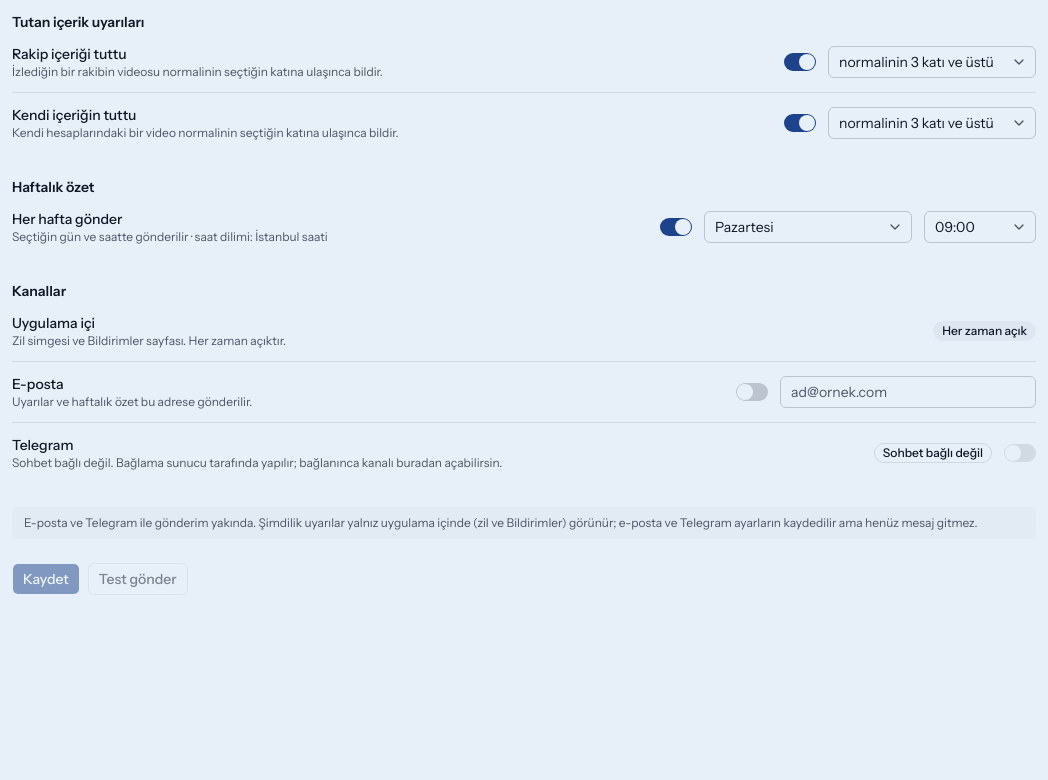
AlertSettingsForm: görünüm › kapalı kuralın kademe seçici devre dışıdır
The image size is (1048, 780).
expect the dropdown named "Rakip içeriği tuttu: en az kaç katı" is enabled: met, box [828, 46, 1036, 78]
Click the switch named "Rakip içeriği tuttu": [800, 62] box [784, 53, 816, 71]
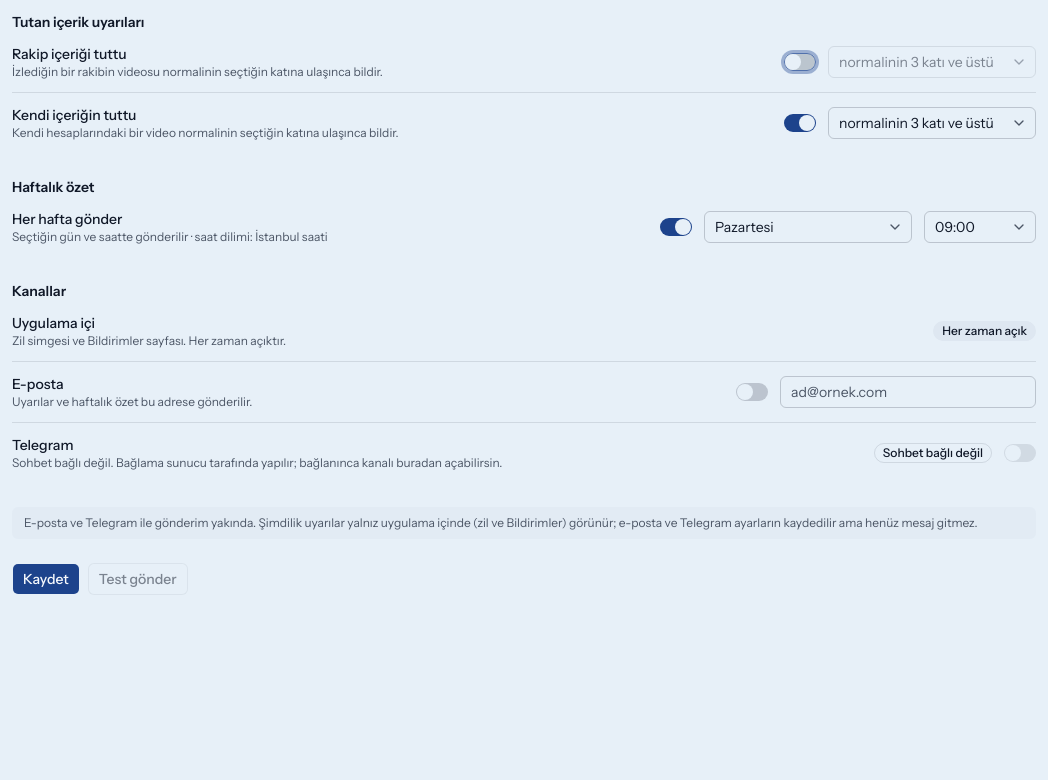
expect the dropdown named "Rakip içeriği tuttu: en az kaç katı" is disabled: met, box [828, 46, 1036, 78]
